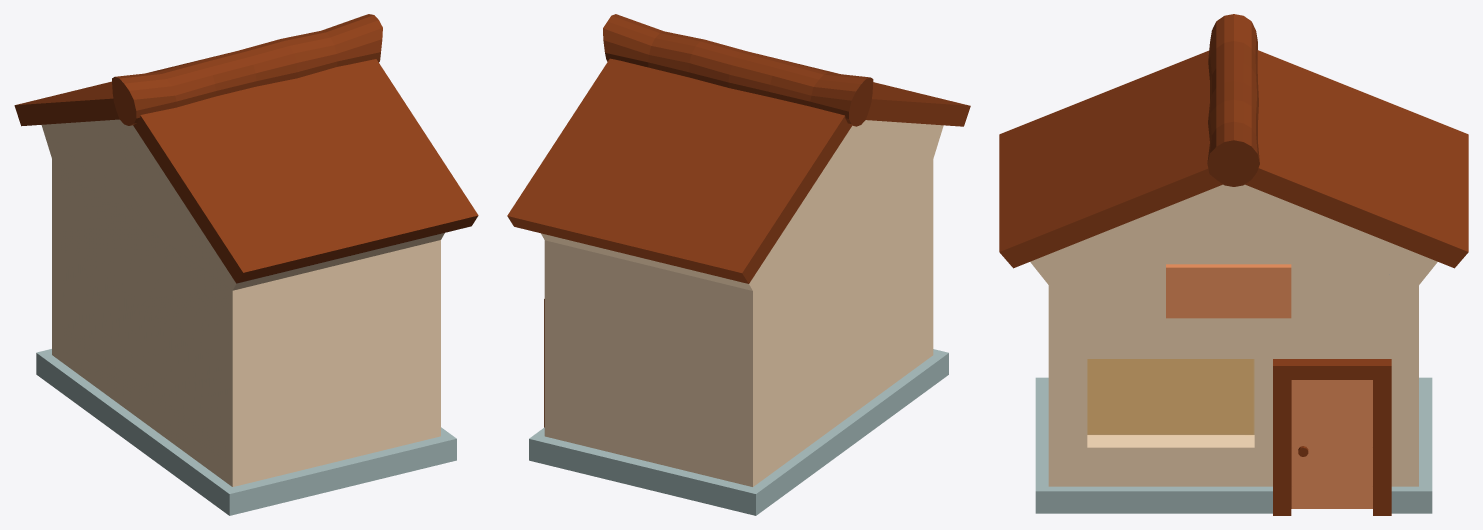
The model's file is shop.fbx.
3 views of the same model, side by side, from view 1: azimuth 30°, elevation 25°; view 2: azimuth 150°, elevation 25°; view 3: azimuth 270°, elevation 25° (orthographic). The views are drawn at different scales.
Parts seen in each view (by area): view 1: shop; view 2: shop; view 3: shop.
Part boxes in pixels (box(x1,y1,x2,y2)): shop: box(14, 14, 478, 515); shop: box(507, 14, 970, 515); shop: box(999, 14, 1468, 515).
Size of the model in its own units: 320 by 445 by 498.
